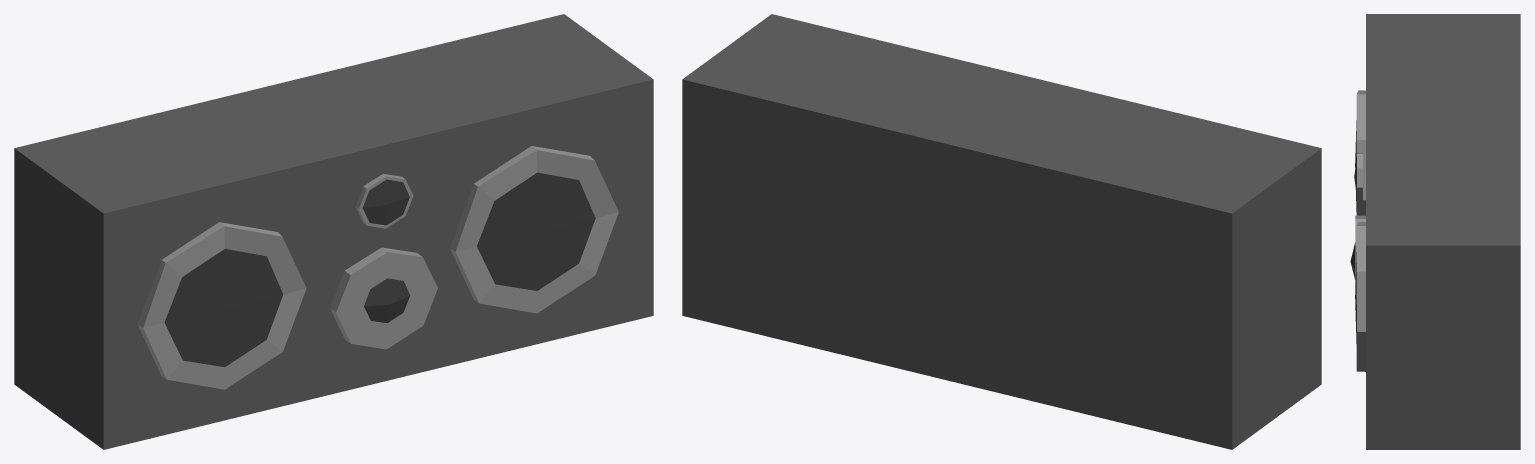
The model's file is Speaker_2.fbx.
The picture shows the model from 3 angles, left to right: view 1: azimuth 30°, elevation 25°; view 2: azimuth 150°, elevation 25°; view 3: azimuth 270°, elevation 25°; orthographic projection. The views are drawn at different scales.
Parts seen in each view (by area): view 1: Speaker_2; view 2: Speaker_2; view 3: Speaker_2.
Boxes of the visible parts, x1,y1,x2,y2 form: Speaker_2: (14,14,653,449); Speaker_2: (682,14,1321,449); Speaker_2: (1350,14,1520,449).
Size of the model in its own units: 105 by 32.71 by 43.33.
